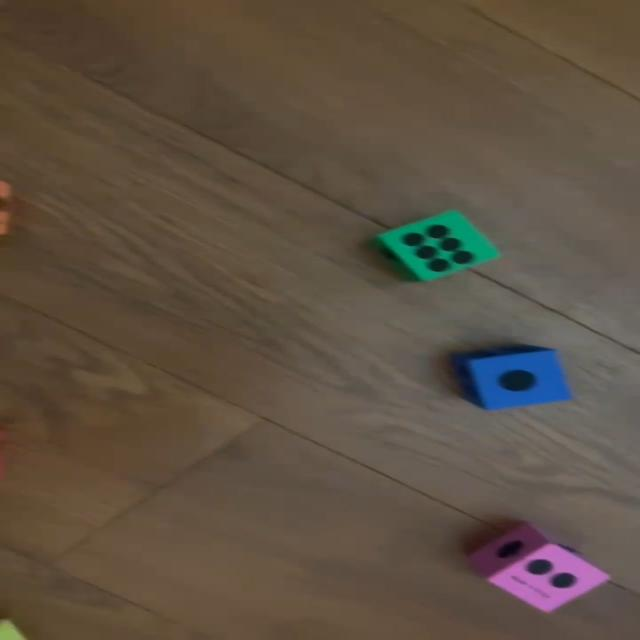blue_block: (455, 347, 573, 410)
